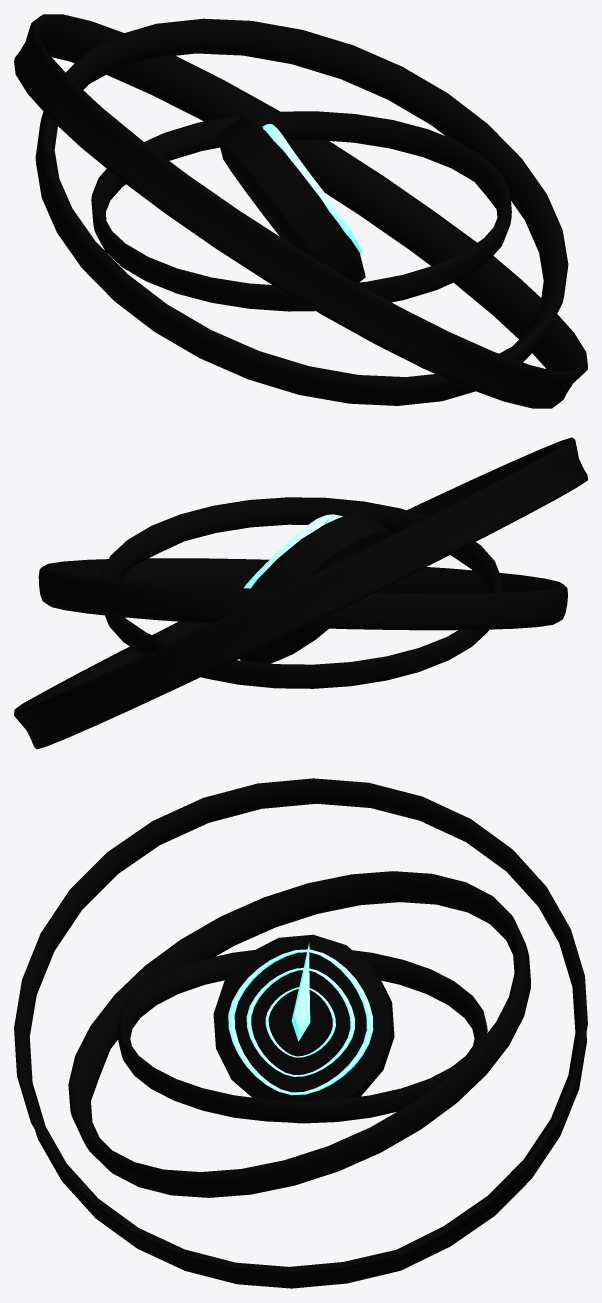
File: compass on.fbx
3 views of the same model, one above another, from view 1: azimuth 30°, elevation 25°; view 2: azimuth 150°, elevation 25°; view 3: azimuth 270°, elevation 25° (orthographic). The views are drawn at different scales.
Visible parts, largest first — view 1: Torus.001, Torus.002, Torus, Cylinder, Cylinder.002; view 2: Torus.001, Torus.002, Torus, Cylinder, Cylinder.002; view 3: Torus.001, Torus.002, Cylinder, Torus, Cylinder.002, Cylinder.003, Plane.
Boxes of the visible parts, <box> form: Torus.001: <box>14,14,587,408</box>; Torus.002: <box>35,18,568,405</box>; Torus: <box>91,111,511,311</box>; Cylinder: <box>217,115,365,282</box>; Cylinder.002: <box>262,124,362,254</box>; Torus.001: <box>14,437,587,749</box>; Torus.002: <box>38,558,567,630</box>; Torus: <box>101,497,501,688</box>; Cylinder: <box>239,510,390,663</box>; Cylinder.002: <box>243,514,342,588</box>; Torus.001: <box>14,778,587,1288</box>; Torus.002: <box>68,871,530,1197</box>; Cylinder: <box>213,934,394,1100</box>; Torus: <box>117,950,487,1123</box>; Cylinder.002: <box>228,949,373,1095</box>; Cylinder.003: <box>246,968,354,1076</box>; Plane: <box>291,943,310,1041</box>.
Size of the model in its own units: 137 by 97.92 by 159.
